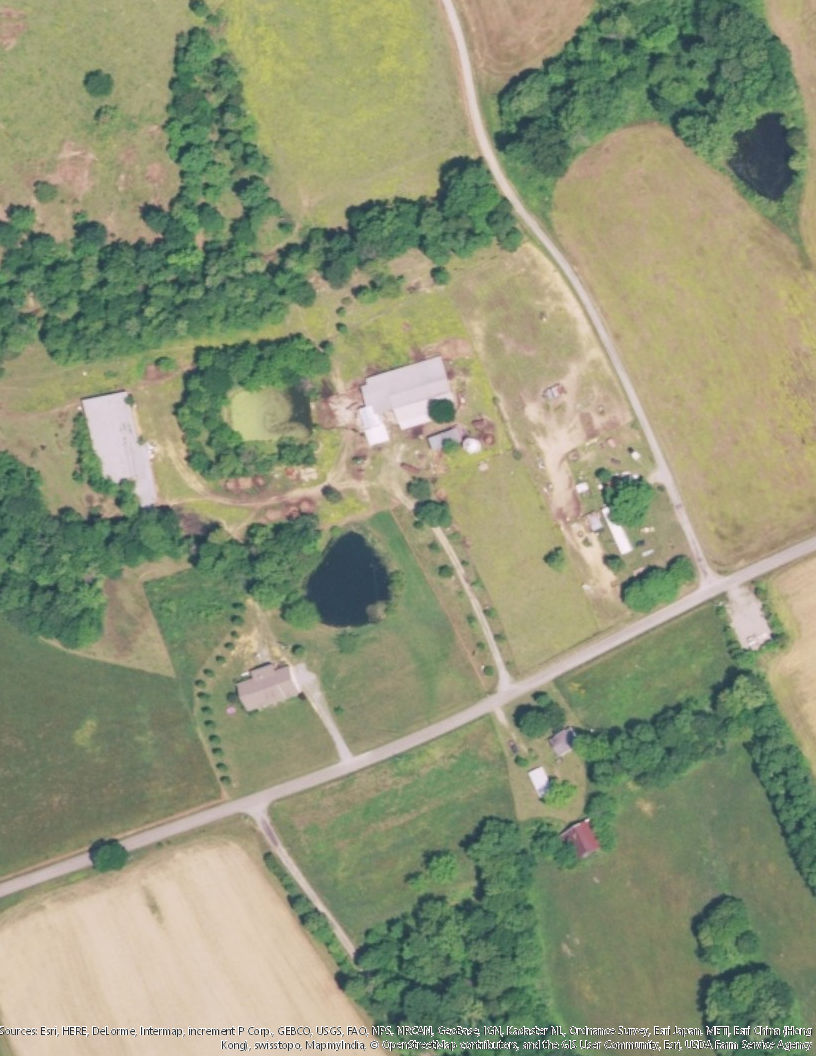cafo: (350, 355, 471, 450)
